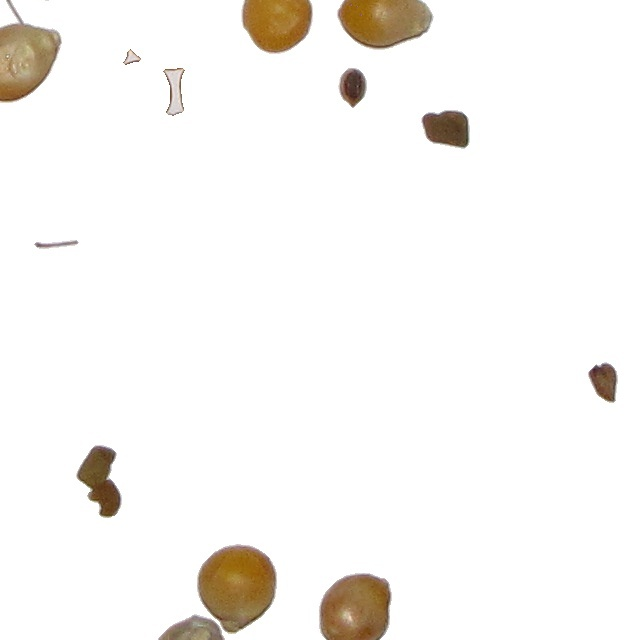buckwheat: (75, 444, 119, 492), (420, 109, 471, 150), (587, 361, 619, 404), (337, 67, 368, 109)
dill: (162, 67, 186, 117), (33, 239, 80, 250), (122, 48, 142, 66)
mais: (196, 543, 278, 635), (318, 572, 393, 640), (152, 613, 231, 640)
